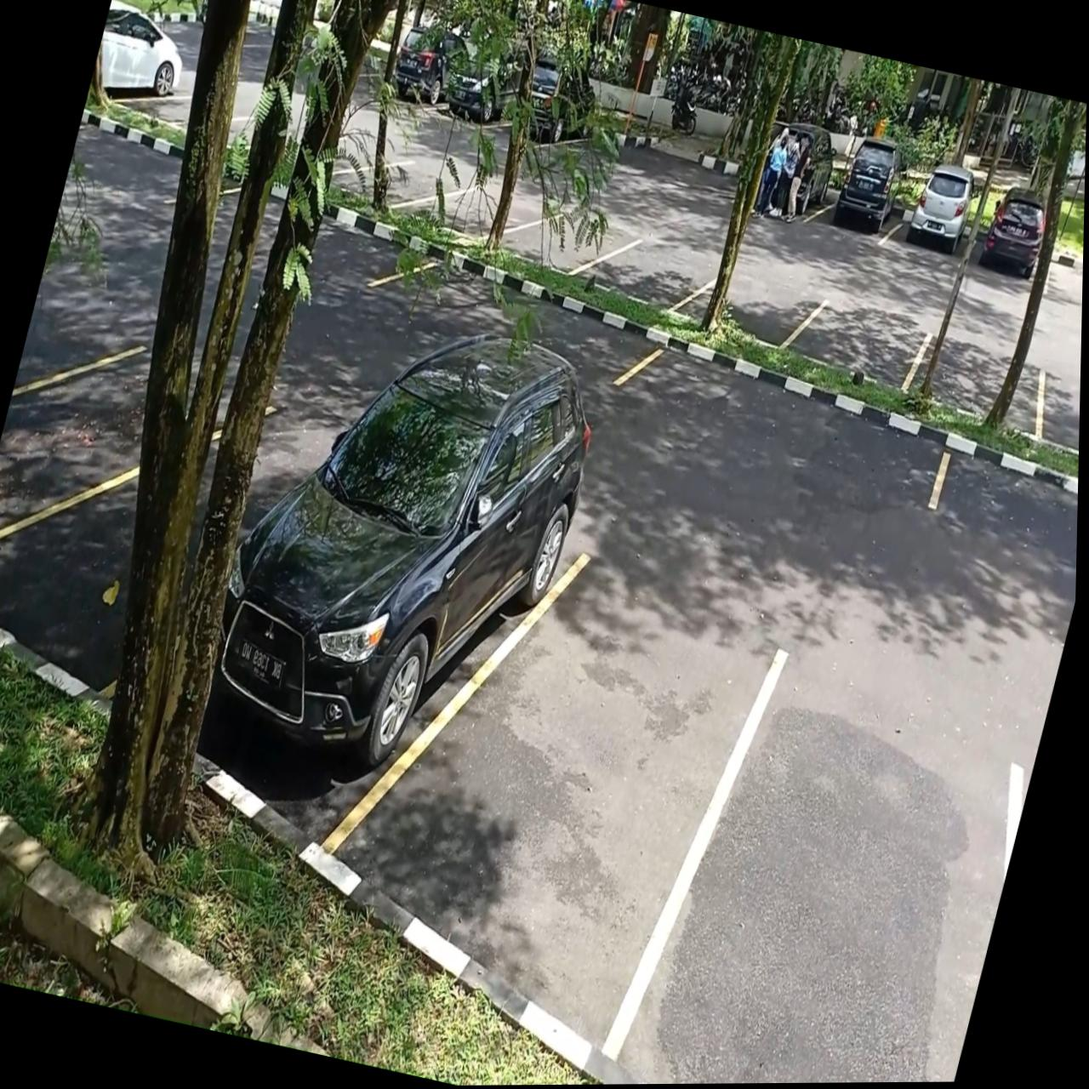cars: (96, 427, 583, 863), (880, 215, 976, 267), (961, 237, 1052, 291), (803, 198, 904, 243), (473, 119, 603, 147)
empty: (317, 558, 781, 1073), (602, 661, 1018, 1084), (617, 340, 950, 509), (372, 258, 670, 383), (0, 347, 143, 534), (903, 335, 1043, 438), (780, 305, 930, 392), (567, 241, 716, 312), (669, 280, 822, 349), (476, 214, 638, 275), (385, 188, 562, 240), (1045, 256, 1083, 302)
